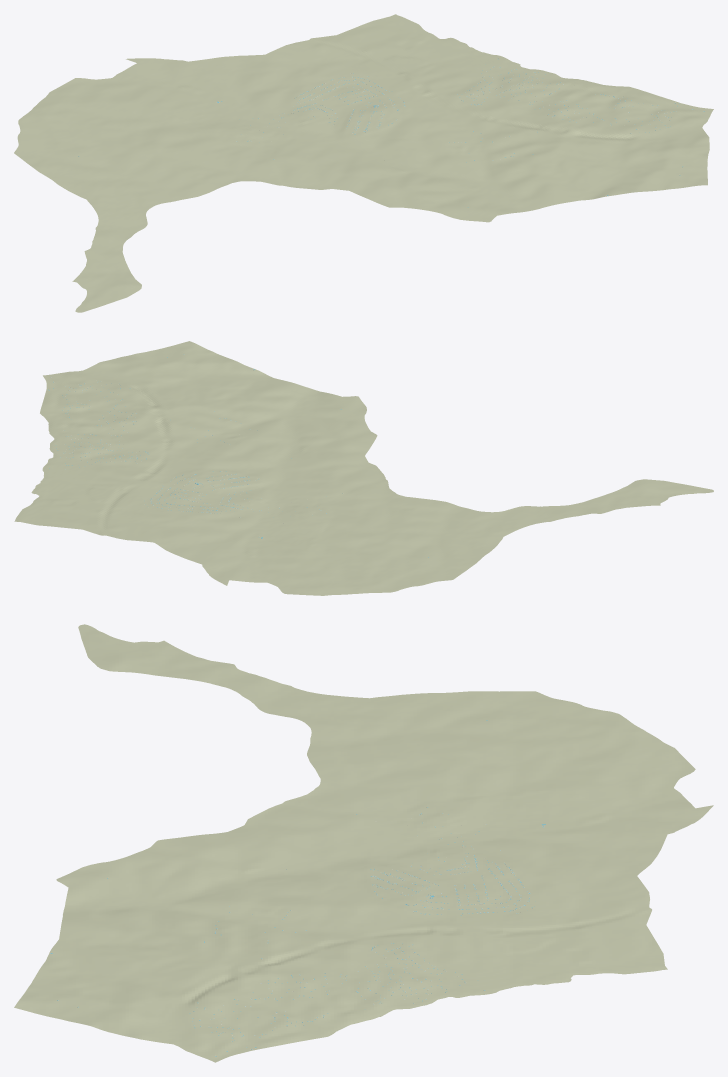
Rendered from almensilla_terrain.glb.
3 views of the same model, one above another, from view 1: azimuth 30°, elevation 25°; view 2: azimuth 150°, elevation 25°; view 3: azimuth 270°, elevation 25° (orthographic). The views are drawn at different scales.
Parts seen in each view (by area): view 1: TERRAIN_3_-3, TERRAIN_1_-2, TERRAIN_2_-3, TERRAIN_-3_0, TERRAIN_1_-1, TERRAIN_0_0, TERRAIN_0_1, TERRAIN_-2_0, TERRAIN_2_-2, TERRAIN_0_2, TERRAIN_-4_1, TERRAIN_-3_2 (+51 smaller); view 2: TERRAIN_2_-2, TERRAIN_3_-2, TERRAIN_0_2, TERRAIN_3_-1, TERRAIN_3_0, TERRAIN_4_-3, TERRAIN_-3_1, TERRAIN_2_-3, TERRAIN_0_1, TERRAIN_2_1, TERRAIN_1_-1, TERRAIN_-2_1 (+51 smaller); view 3: TERRAIN_3_1, TERRAIN_0_-2, TERRAIN_-1_1, TERRAIN_2_2, TERRAIN_1_2, TERRAIN_-1_0, TERRAIN_4_-2, TERRAIN_4_-1, TERRAIN_-2_1, TERRAIN_-2_2, TERRAIN_1_-3, TERRAIN_3_-3 (+52 smaller).
Part boxes in pixels (box(x1,y1,x2,y2)): TERRAIN_3_-3: box(542, 142, 629, 179); TERRAIN_1_-2: box(400, 145, 486, 182); TERRAIN_2_-3: box(487, 154, 573, 192); TERRAIN_-3_0: box(114, 149, 200, 187); TERRAIN_1_-1: box(368, 121, 454, 158); TERRAIN_0_0: box(280, 111, 366, 147); TERRAIN_0_1: box(248, 86, 334, 124); TERRAIN_-2_0: box(169, 137, 256, 173); TERRAIN_2_-2: box(455, 131, 541, 169); TERRAIN_0_2: box(216, 62, 302, 100); TERRAIN_-4_1: box(26, 139, 113, 176); TERRAIN_-3_2: box(50, 102, 136, 139); TERRAIN_2_-2: box(181, 408, 259, 441); TERRAIN_3_-2: box(131, 396, 209, 429); TERRAIN_0_2: box(166, 516, 244, 549); TERRAIN_3_-1: box(102, 417, 180, 450); TERRAIN_3_0: box(73, 439, 151, 471); TERRAIN_4_-3: box(110, 363, 188, 396); TERRAIN_-3_1: box(346, 531, 424, 563); TERRAIN_2_-3: box(210, 388, 289, 421); TERRAIN_0_1: box(195, 496, 273, 528); TERRAIN_2_1: box(94, 472, 172, 504); TERRAIN_1_-1: box(203, 442, 281, 474); TERRAIN_-2_1: box(296, 519, 373, 552); TERRAIN_3_1: box(446, 946, 529, 983); TERRAIN_0_-2: box(198, 840, 280, 878); TERRAIN_-1_1: box(446, 804, 529, 841); TERRAIN_2_2: box(529, 910, 612, 946); TERRAIN_1_2: box(529, 874, 612, 910); TERRAIN_-1_0: box(364, 804, 446, 841); TERRAIN_4_-2: box(198, 981, 280, 1018); TERRAIN_4_-1: box(281, 981, 363, 1018); TERRAIN_-2_1: box(446, 768, 529, 804); TERRAIN_-2_2: box(529, 767, 612, 804); TERRAIN_1_-3: box(115, 877, 198, 913); TERRAIN_3_-3: box(115, 946, 198, 983).
Size of the model in its own units: 6216 by 56.9 by 4229.
